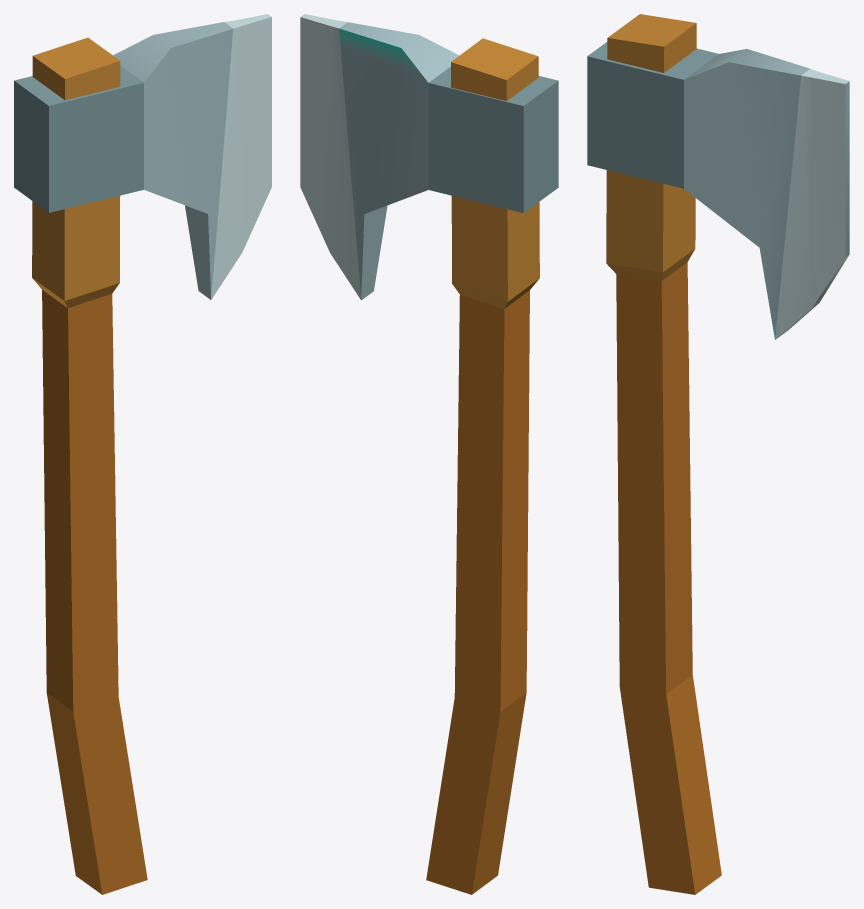
Rendered from Vikings_axe.fbx.
The picture shows the model from 3 angles, left to right: view 1: azimuth 30°, elevation 25°; view 2: azimuth 150°, elevation 25°; view 3: azimuth 330°, elevation 25°; orthographic projection.
Parts seen in each view (by area): view 1: Cube.002; view 2: Cube.002; view 3: Cube.002.
Boxes of the visible parts, x1=… form: Cube.002: x1=14, y1=14, x2=271, y2=894; Cube.002: x1=300, y1=14, x2=558, y2=894; Cube.002: x1=587, y1=14, x2=849, y2=894.
Bounding box in the file's own units: 39.71 × 132 × 10.05.
